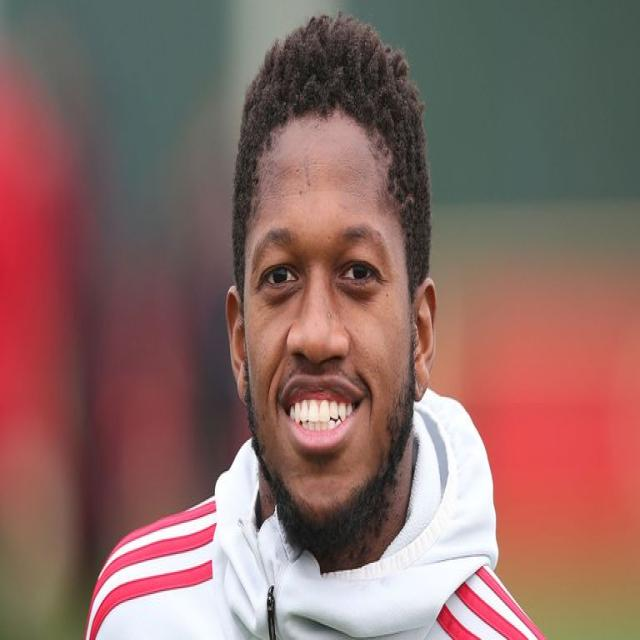mobile_phonerotation: (84, 10, 548, 637)
